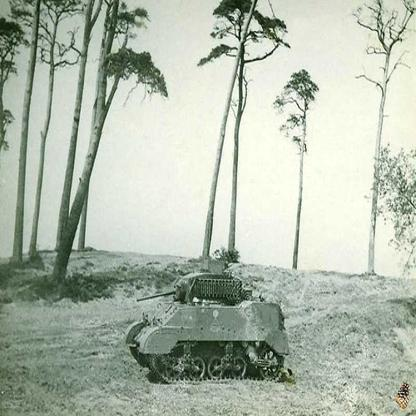Tank: (118, 251, 301, 388)
